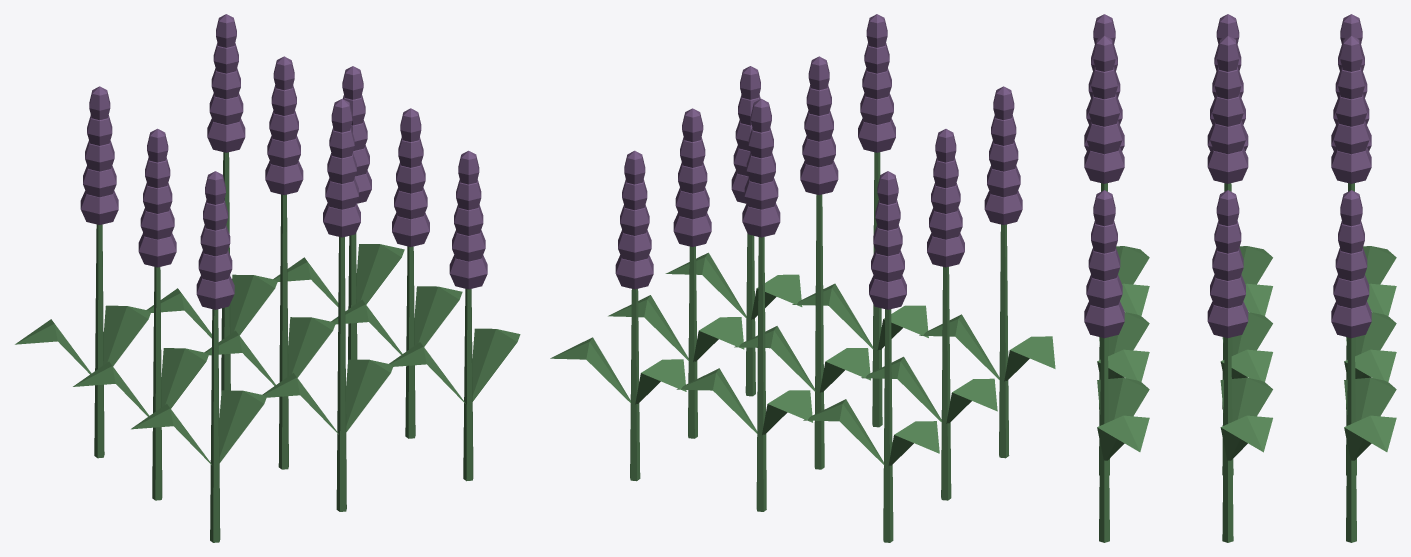
Rendered from b08_salvia_border.glb.
The picture shows the model from 3 angles, left to right: view 1: azimuth 30°, elevation 25°; view 2: azimuth 150°, elevation 25°; view 3: azimuth 270°, elevation 25°; orthographic projection. The views are drawn at different scales.
Parts seen in each view (by area): view 1: b08_salvia_border; view 2: b08_salvia_border; view 3: b08_salvia_border.
Boxes of the visible parts, x1=… form: b08_salvia_border: x1=15, y1=14, x2=520, y2=542; b08_salvia_border: x1=550, y1=14, x2=1055, y2=542; b08_salvia_border: x1=1084, y1=14, x2=1396, y2=542.
Size of the model in its own units: 0.74 by 0.745 by 0.4808.
